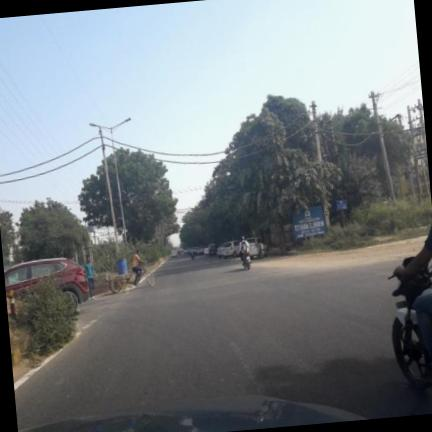Road: (15, 257, 431, 428)
